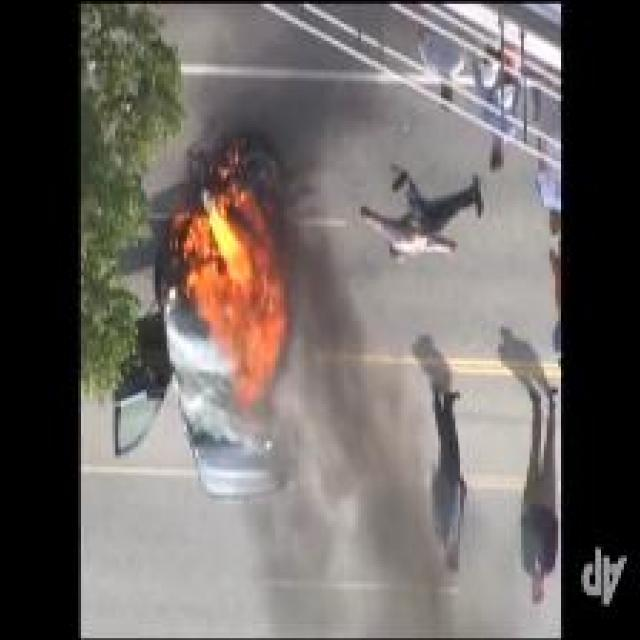Fire: (170, 184, 287, 410)
